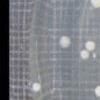white: (57, 34, 72, 50), (83, 38, 96, 52), (78, 47, 90, 62), (30, 80, 42, 93), (93, 84, 100, 100), (90, 0, 100, 11), (91, 51, 98, 60)
